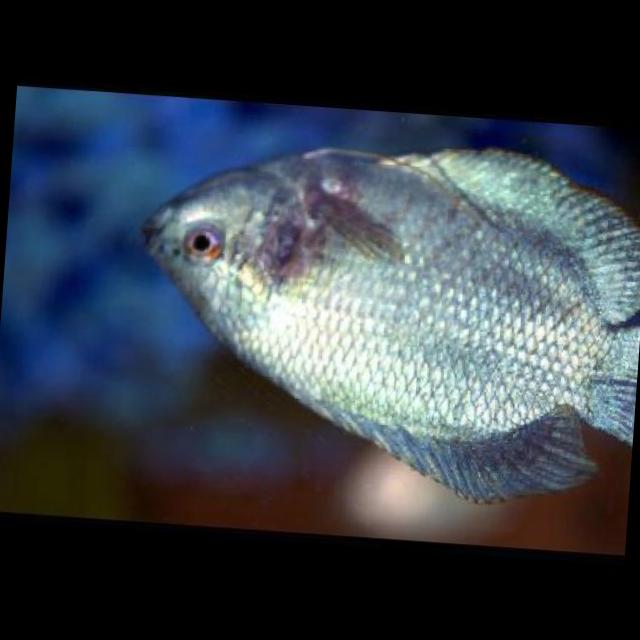Gourami: (118, 122, 640, 517)
